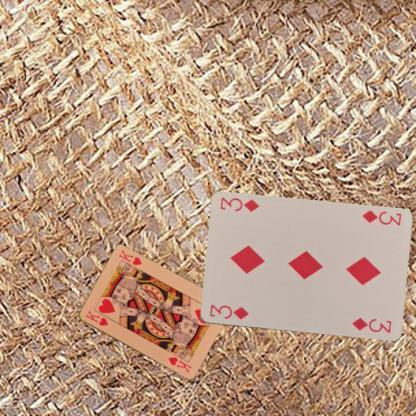3d: (207, 301, 250, 322), (360, 207, 402, 228)
Kh: (82, 308, 110, 327)
